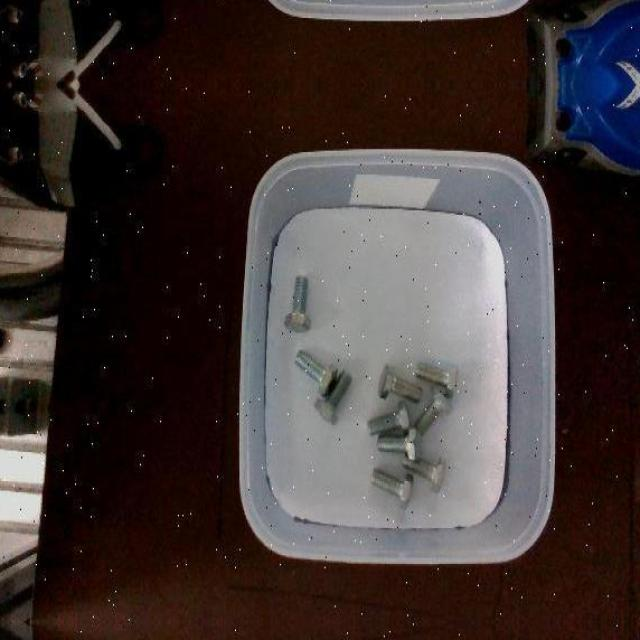screw: (313, 369, 354, 425), (413, 384, 453, 437), (295, 348, 338, 395), (378, 362, 422, 403), (370, 469, 413, 507), (284, 274, 311, 331), (416, 362, 458, 398), (368, 401, 410, 436), (377, 426, 421, 459)
